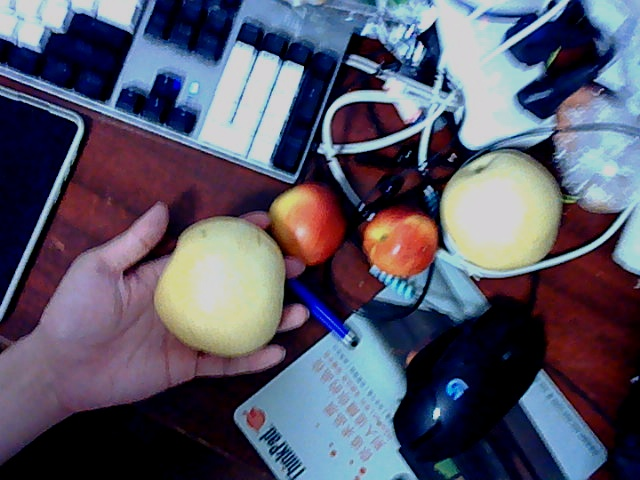peach: (271, 176, 344, 259), (364, 200, 440, 272)
pear: (154, 222, 291, 353), (446, 155, 563, 274)
